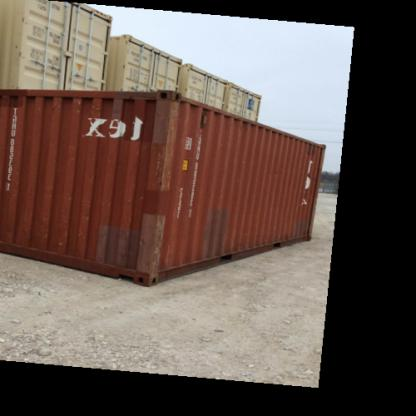Damage: (154, 95, 186, 145), (145, 145, 174, 192), (143, 217, 168, 270), (70, 92, 101, 119), (77, 194, 93, 222), (128, 192, 145, 207)
